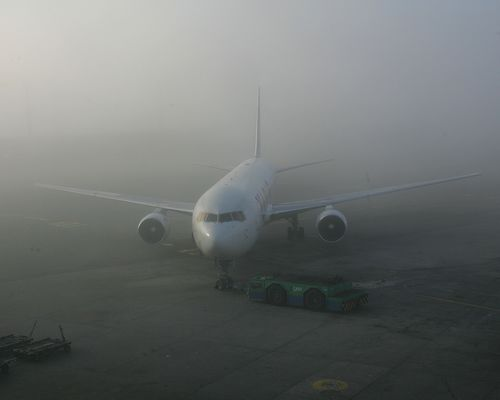airplane: (34, 87, 484, 292)
